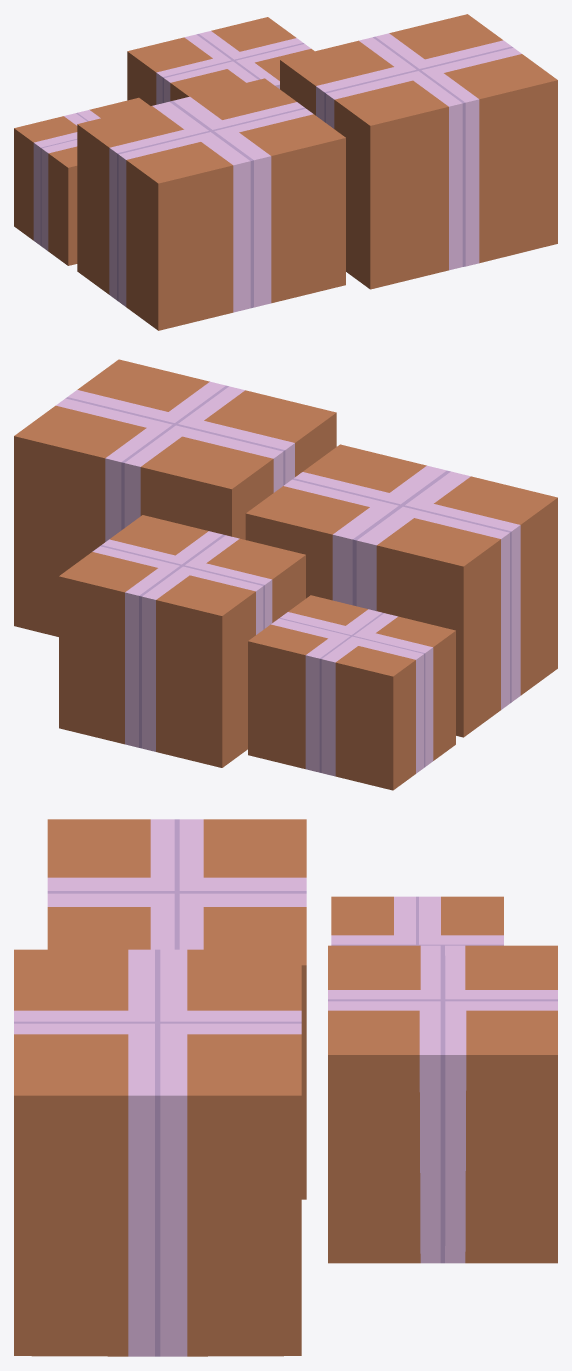
Rendered from Boxes.fbx.
3 views of the same model, one above another, from view 1: azimuth 30°, elevation 25°; view 2: azimuth 150°, elevation 25°; view 3: azimuth 270°, elevation 25° (orthographic). The views are drawn at different scales.
Parts seen in each view (by area): view 1: Large_Box001, Extra-Large_Box001, Medium_Box001, Small_Box001; view 2: Large_Box001, Extra-Large_Box001, Medium_Box001, Small_Box001; view 3: Extra-Large_Box001, Medium_Box001, Large_Box001, Small_Box001.
Part boxes in pixels (<box>): Large_Box001: <box>77,78,345,330</box>; Extra-Large_Box001: <box>280,14,557,289</box>; Medium_Box001: <box>127,17,314,105</box>; Small_Box001: <box>14,97,150,265</box>; Large_Box001: <box>245,444,557,737</box>; Extra-Large_Box001: <box>14,359,336,636</box>; Medium_Box001: <box>59,515,305,767</box>; Small_Box001: <box>248,595,455,790</box>; Extra-Large_Box001: <box>14,949,301,1356</box>; Medium_Box001: <box>328,945,557,1263</box>; Large_Box001: <box>47,819,306,1199</box>; Small_Box001: <box>331,896,503,945</box>.
Size of the model in its own units: 1267 by 509 by 961.
